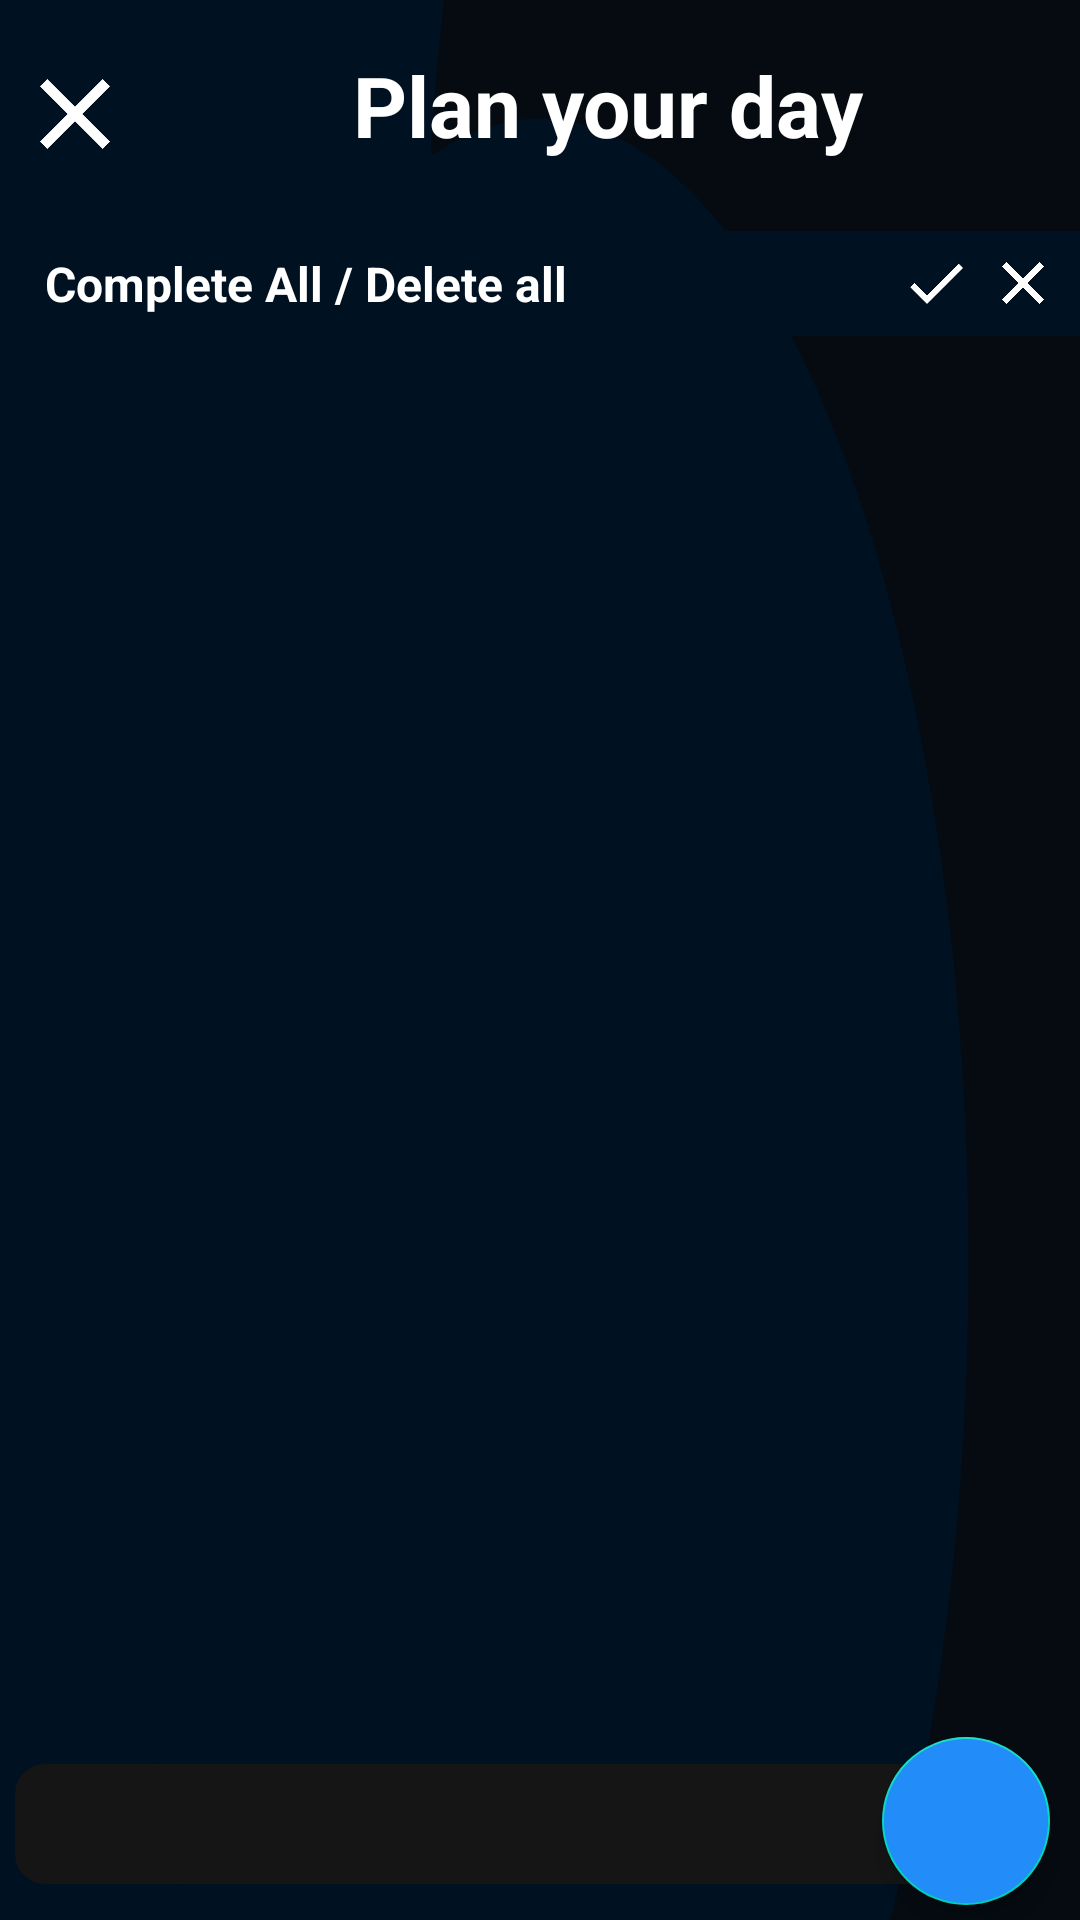

Icons on this 1080 × 1920 Android screen, each with its box as (left=x1, top=y1, right=x2, bottom=y2):
check: (left=910, top=264, right=963, bottom=304)
close: (left=40, top=79, right=110, bottom=149), (left=1002, top=262, right=1044, bottom=304)
